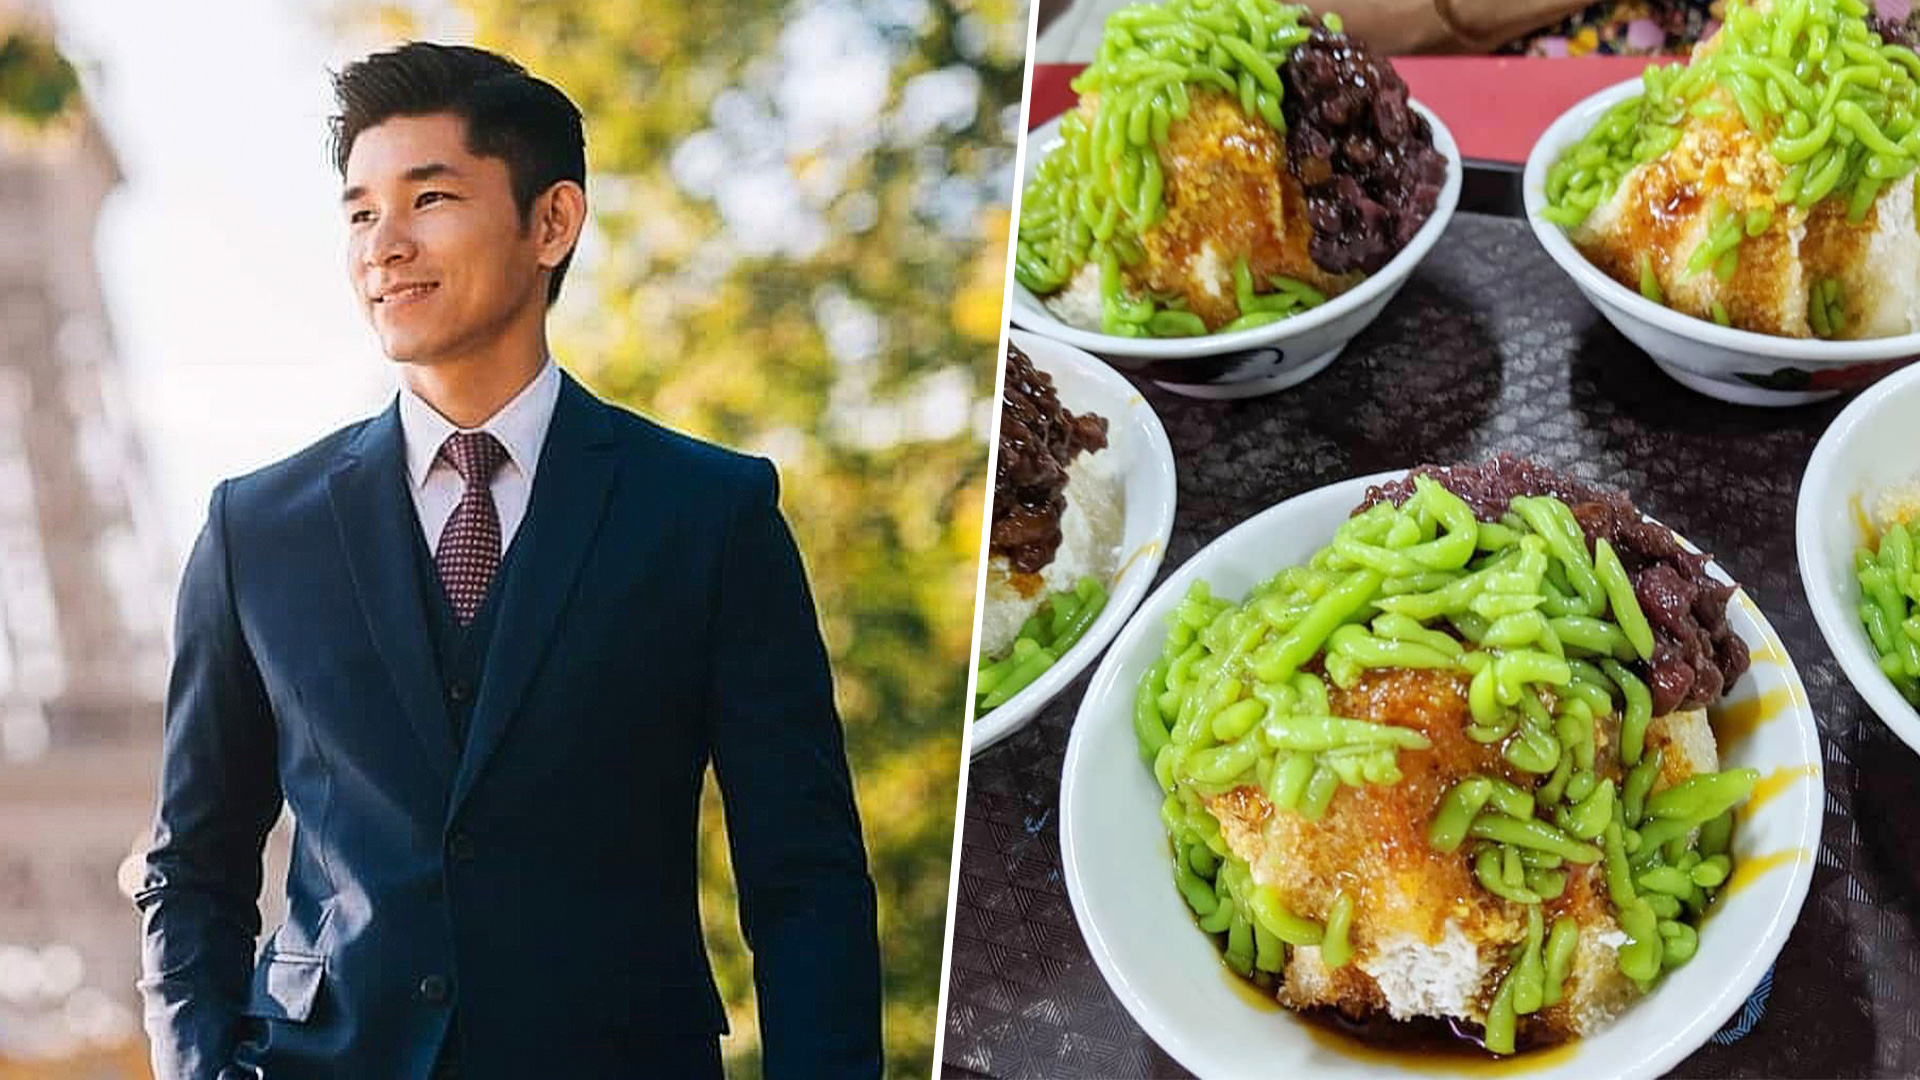Chendol: (1120, 477, 1821, 1031), (1029, 3, 1452, 356), (1544, 0, 1919, 327)
